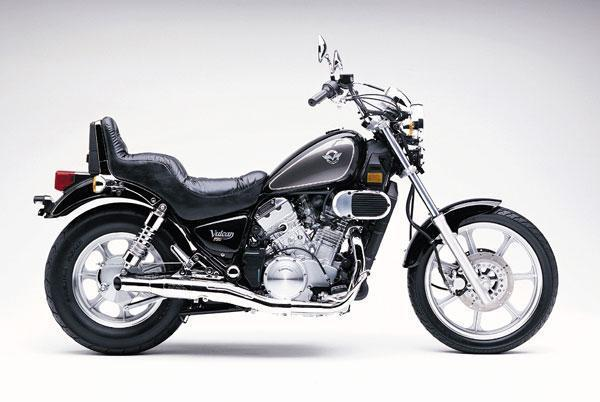motorcycle: (18, 30, 563, 360)
